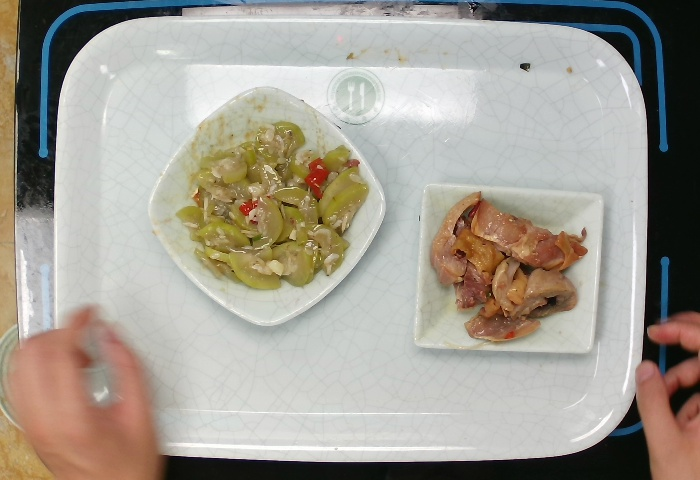WCQzf-Da_Si_Fang_Die: (143, 83, 392, 329)
WCQzf-Ru_Ci_Si_Fang_Die: (408, 179, 607, 358)
